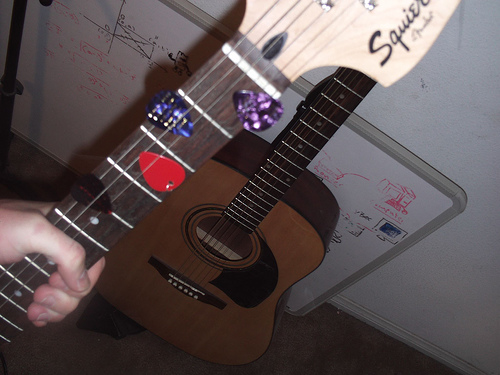guitar: (87, 65, 377, 367)
